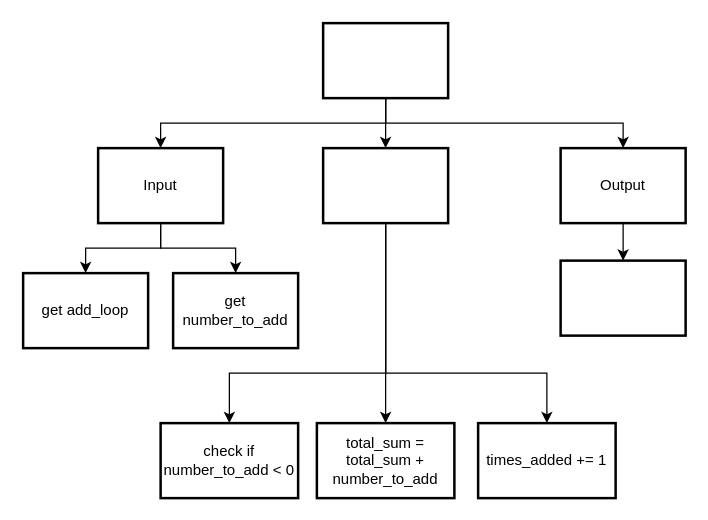
Some shapes in this 708 by 520 pixel diagram are drawn without their labels. The shapes that lost their labels are listed below. From the top down, each one's centre as x and y in pixels, then its label:
At [385,60]: "positive_adder".
At [385,185]: "Process".
At [622,297]: "The sum of your numbers is total_sum".
